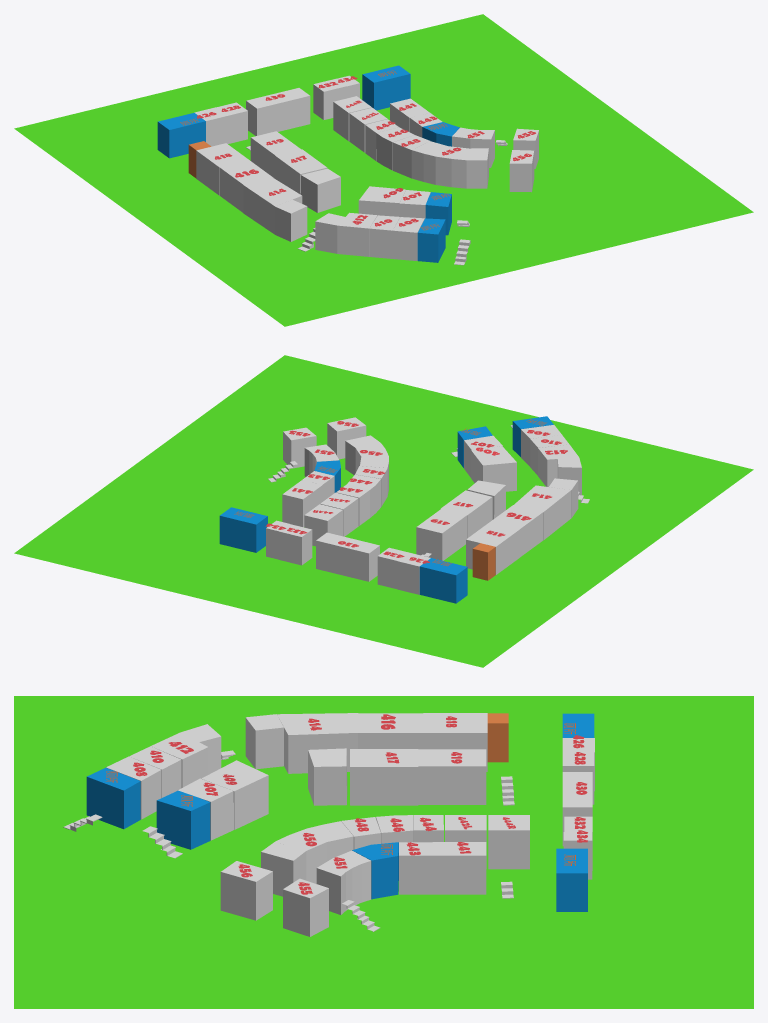
3 renders of one model, top to bottom at view 1: azimuth 30°, elevation 25°; view 2: azimuth 150°, elevation 25°; view 3: azimuth 270°, elevation 25°, orthographic. The views are drawn at different scales.
Visible parts, largest first — view 1: 平面, Collection, 厕所.004, 厕所.002, 供电室, 女厕所, 442R, 442L, 男厕所, 厕所.003; view 2: 平面, Collection, 厕所.002, 厕所.004, 442R, 442L, 电梯, 供电室, 女厕所; view 3: 平面, Collection, 女厕所, 男厕所, 442R, 供电室, 厕所.004, 厕所.003, 442L, 电梯, 厕所.002, 厕所.
Part boxes in pixels (x1=…): 平面: x1=14, y1=14, x2=753, y2=326; Collection: x1=194, y1=79, x2=538, y2=260; 厕所.004: x1=362, y1=65, x2=410, y2=110; 厕所.002: x1=157, y1=112, x2=205, y2=158; 供电室: x1=300, y1=168, x2=340, y2=212; 女厕所: x1=417, y1=218, x2=445, y2=262; 442R: x1=333, y1=96, x2=371, y2=141; 442L: x1=349, y1=107, x2=387, y2=152; 男厕所: x1=425, y1=192, x2=451, y2=235; 厕所.003: x1=422, y1=122, x2=459, y2=146; 平面: x1=14, y1=355, x2=753, y2=667; Collection: x1=279, y1=417, x2=581, y2=594; 厕所.002: x1=419, y1=558, x2=467, y2=603; 厕所.004: x1=219, y1=507, x2=267, y2=552; 442R: x1=304, y1=504, x2=342, y2=546; 442L: x1=320, y1=492, x2=358, y2=536; 电梯: x1=472, y1=543, x2=495, y2=580; 供电室: x1=467, y1=480, x2=505, y2=519; 女厕所: x1=512, y1=416, x2=553, y2=456; 平面: x1=14, y1=696, x2=753, y2=1008; Collection: x1=106, y1=713, x2=594, y2=936; 女厕所: x1=86, y1=767, x2=140, y2=829; 男厕所: x1=156, y1=790, x2=210, y2=849; 442R: x1=488, y1=815, x2=529, y2=869; 供电室: x1=308, y1=748, x2=347, y2=805; 厕所.004: x1=556, y1=848, x2=587, y2=911; 厕所.003: x1=352, y1=842, x2=398, y2=899; 442L: x1=445, y1=815, x2=486, y2=868; 电梯: x1=487, y1=713, x2=508, y2=762; 厕所.002: x1=562, y1=713, x2=594, y2=737; 厕所: x1=563, y1=832, x2=592, y2=879.
Bounding box in the file's own units: 1.6 × 0.1736 × 1.6.
